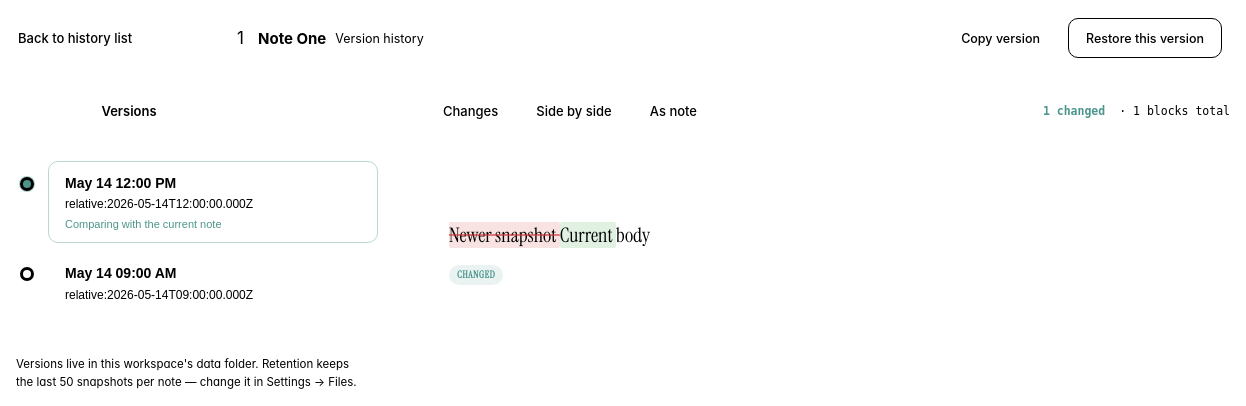
Test: HistoryView › announces restore success and maintenance warning together
Click the button with class "nv-btn--primary".
click(1145, 38)  # box x1=1068 y1=18 x2=1222 y2=58
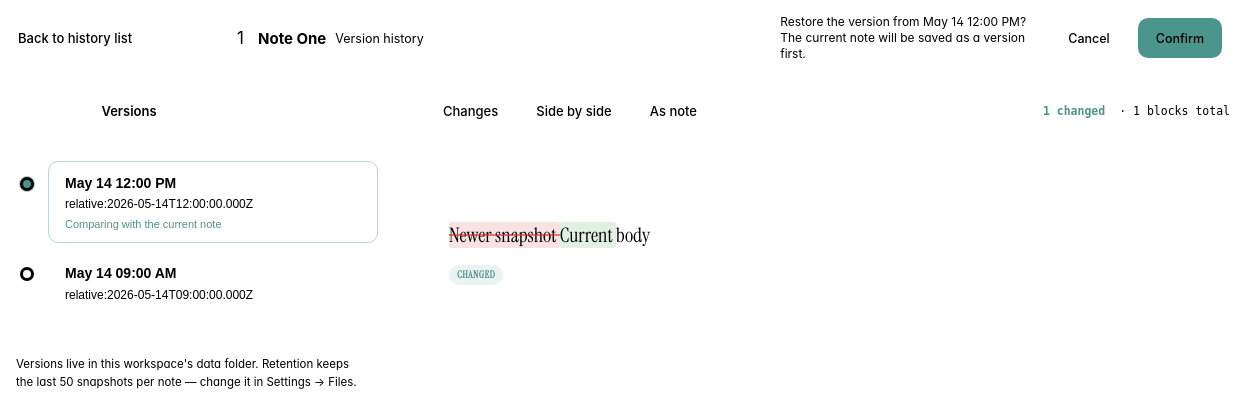
Click the button with class "nv-btn--primary".
click(1180, 38)  # box x1=1138 y1=18 x2=1222 y2=58
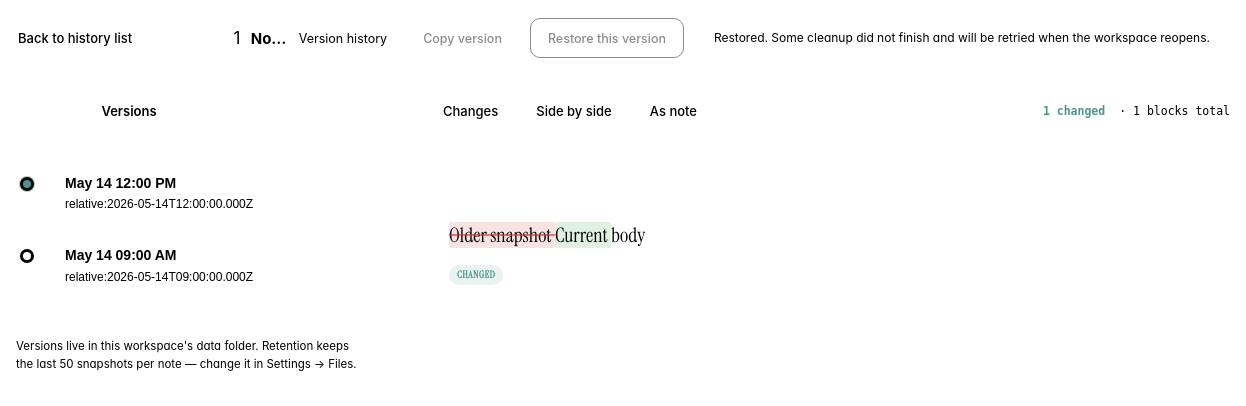
Now the text with class "history-top-bar__warning" shows "Some cleanup did not finish", box x1=714 y1=30 x2=1210 y2=45
